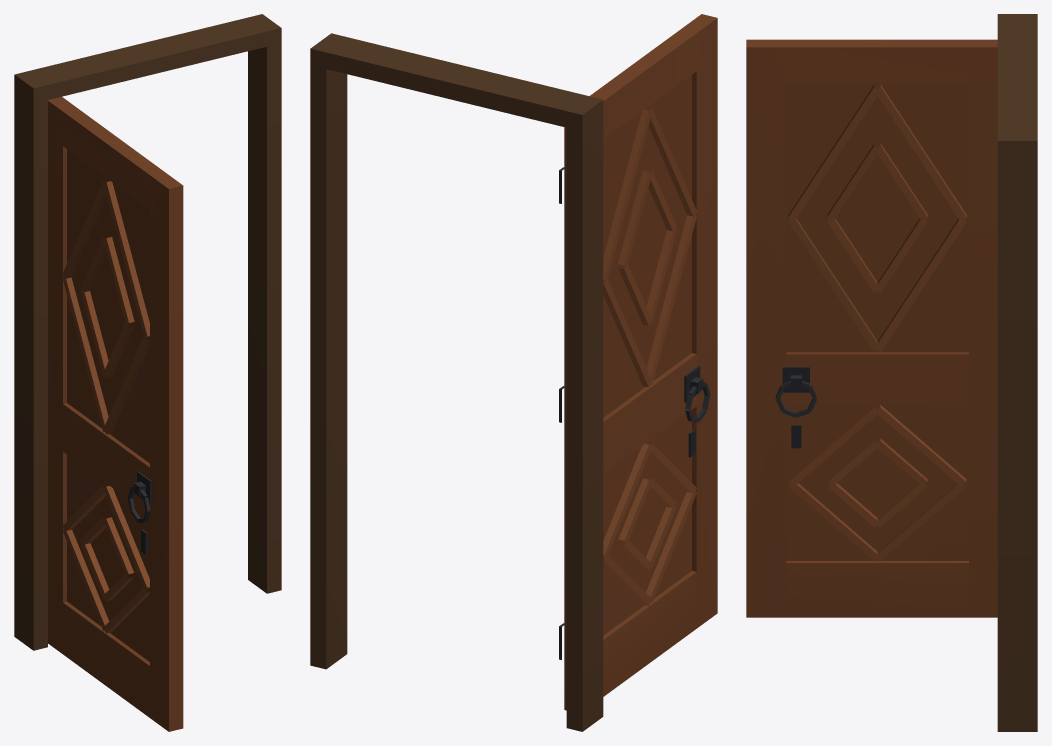
Rendered from door.oak_slim_open.diamond.glb.
3 renders of one model, left to right at view 1: azimuth 30°, elevation 25°; view 2: azimuth 150°, elevation 25°; view 3: azimuth 270°, elevation 25°, orthographic. The views are drawn at different scales.
Visible parts, largest first — view 1: door_oak_slim_open_diamond; view 2: door_oak_slim_open_diamond; view 3: door_oak_slim_open_diamond.
Part boxes in pixels (left/top/right/bottom): door_oak_slim_open_diamond: left=14, top=14, right=281, bottom=731; door_oak_slim_open_diamond: left=310, top=14, right=717, bottom=731; door_oak_slim_open_diamond: left=746, top=14, right=1037, bottom=731.
Size of what is drawn, in the model's own units: 1.2 by 2.6 by 1.16.
